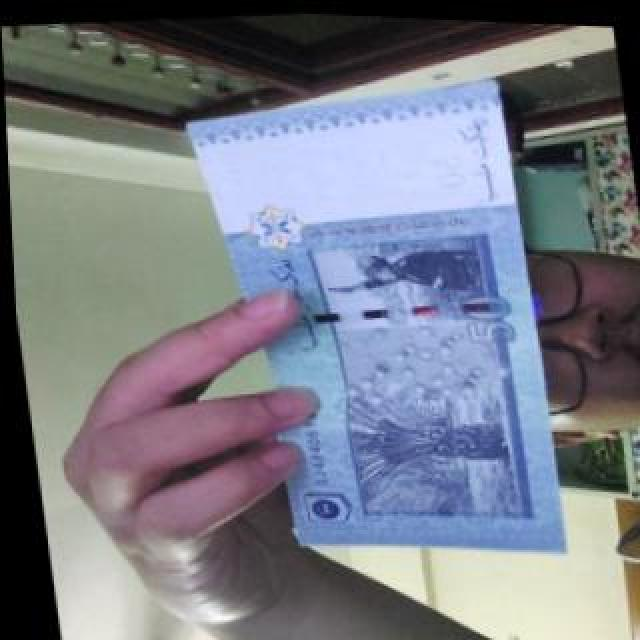50 Ringgit: (180, 58, 585, 583)
